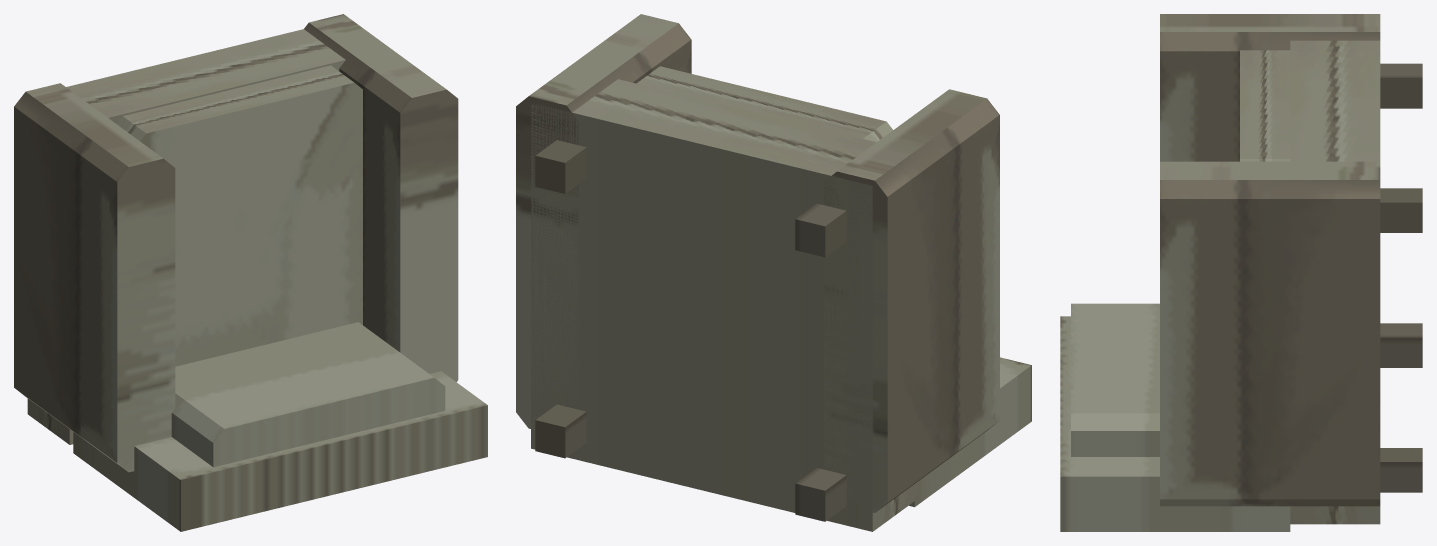
Rendered from pz_chair_seating_indoor_03_light_blue.obj.
3 renders of one model, left to right at view 1: azimuth 30°, elevation 25°; view 2: azimuth 150°, elevation 25°; view 3: azimuth 270°, elevation 25°, orthographic. The views are drawn at different scales.
Parts seen in each view (by area): view 1: root; view 2: root; view 3: root.
Part boxes in pixels (<box>): root: <box>14,14,487,531</box>; root: <box>516,14,1031,531</box>; root: <box>1060,14,1422,531</box>.
Bounding box in the file's own units: 1 × 0.93 × 0.86.
1 material, 1 textured.
